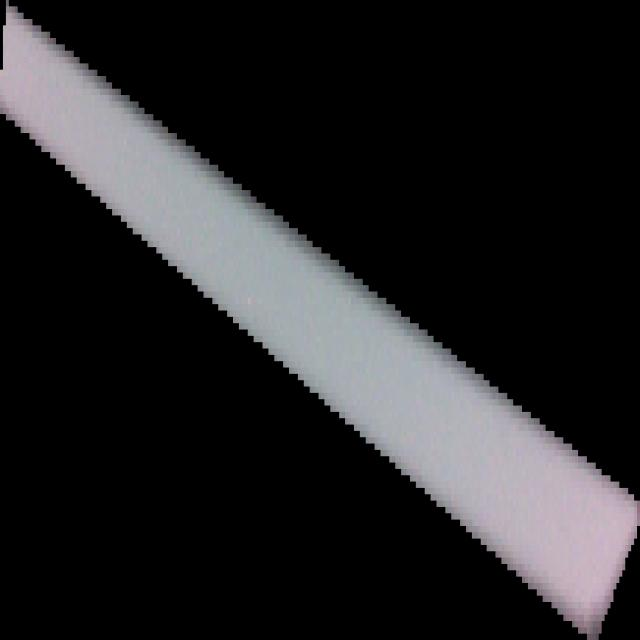curve: (0, 1, 640, 640)
